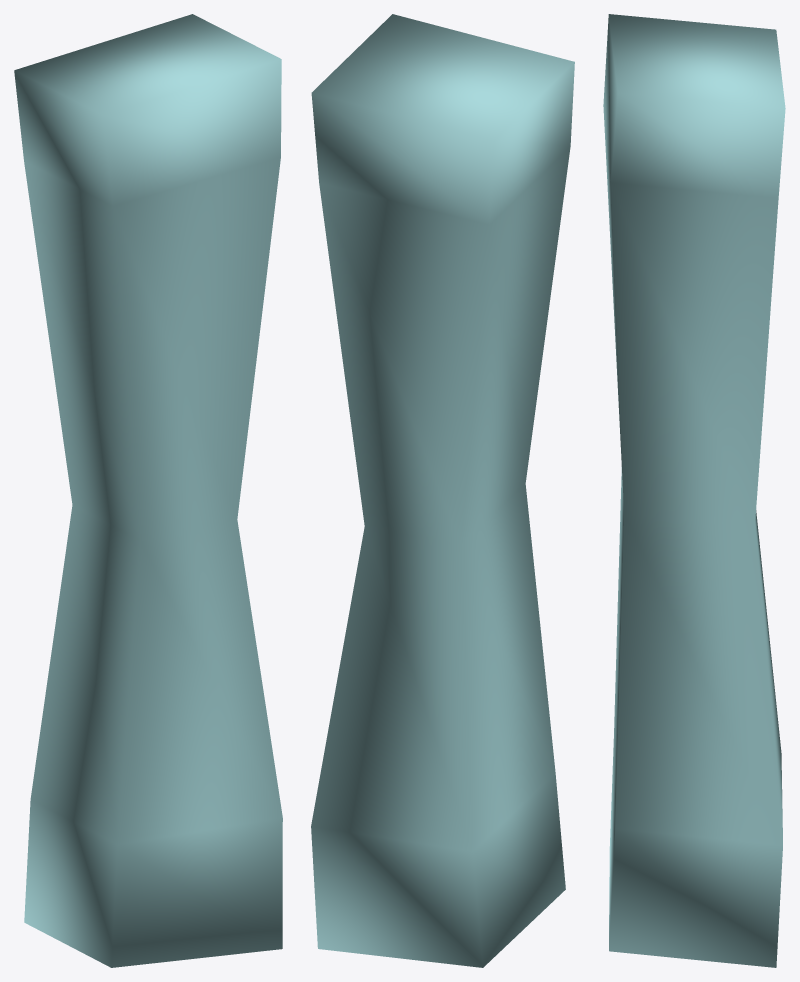
The model's file is Skelly_palm.04.R.fbx.
3 views of the same model, side by side, from view 1: azimuth 30°, elevation 25°; view 2: azimuth 150°, elevation 25°; view 3: azimuth 270°, elevation 25° (orthographic). The views are drawn at different scales.
Visible parts, largest first — view 1: Skelly_palm.04.R; view 2: Skelly_palm.04.R; view 3: Skelly_palm.04.R.
Part boxes in pixels (bbox=[...]): Skelly_palm.04.R: bbox=[14, 14, 282, 967]; Skelly_palm.04.R: bbox=[311, 14, 574, 967]; Skelly_palm.04.R: bbox=[603, 14, 785, 967].
Size of the model in its own units: 1.57 by 7.3 by 1.37.
